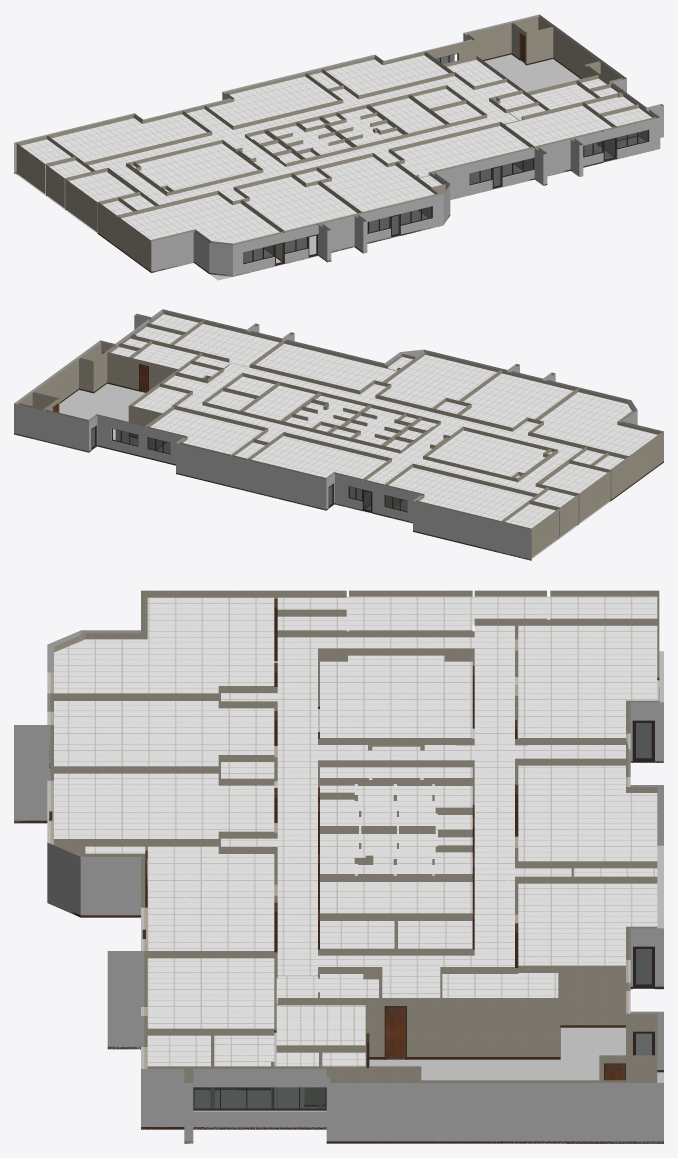
The model's file is FloorPlan.FBX.
3 views of the same model, one above another, from view 1: azimuth 30°, elevation 25°; view 2: azimuth 150°, elevation 25°; view 3: azimuth 270°, elevation 25° (orthographic). The views are drawn at different scales.
Visible parts, largest first — view 1: Walls, Walls_Exterior, Ceiling_Hallway, Ceiling_Act_Rm_5, Ceiling_Bathrooms, Ceiling_Act_Rm_4, Ceiling_Act_Rm_3, Ceiling_Act_Rm_2, Ceiling_Act_Rm_1, Ceiling_Art_Area, Ceiling_Act_Rm_6, Ceiling_Act_Rm_7 (+12 smaller); view 2: Walls, Walls_Exterior, Ceiling_Hallway, Ceiling_Act_Rm_5, Ceiling_Bathrooms, Ceiling_Act_Rm_4, Ceiling_Act_Rm_3, Ceiling_Act_Rm_2, Ceiling_Act_Rm_1, Ceiling_Art_Area, Ceiling_Act_Rm_6, Ceiling_Act_Rm_7 (+10 smaller); view 3: Walls, Walls_Exterior, Ceiling_Hallway, Ceiling_Act_Rm_5, Ceiling_Bathrooms, Ceiling_Act_Rm_4, Ceiling_Act_Rm_3, Ceiling_Act_Rm_2, Ceiling_Act_Rm_1, Ceiling_Act_Rm_6, Ceiling_Art_Area, Ceiling_Act_Rm_7 (+16 smaller).
Part boxes in pixels (x1,y1,x2,y2): Walls: (16, 16, 655, 271); Walls_Exterior: (14, 14, 663, 276); Ceiling_Hallway: (89, 76, 518, 204); Ceiling_Act_Rm_5: (21, 114, 206, 215); Ceiling_Bathrooms: (249, 98, 444, 163); Ceiling_Act_Rm_4: (121, 194, 279, 243); Ceiling_Act_Rm_3: (239, 177, 356, 230); Ceiling_Act_Rm_2: (321, 157, 434, 211); Ceiling_Act_Rm_1: (394, 126, 529, 177); Ceiling_Art_Area: (132, 143, 257, 191); Ceiling_Act_Rm_6: (209, 76, 337, 125); Ceiling_Act_Rm_7: (326, 55, 448, 95); Walls: (18, 311, 663, 557); Walls_Exterior: (14, 309, 663, 560); Ceiling_Hallway: (164, 363, 582, 493); Ceiling_Act_Rm_5: (389, 450, 624, 528); Ceiling_Bathrooms: (244, 385, 436, 450); Ceiling_Act_Rm_4: (533, 392, 657, 455); Ceiling_Act_Rm_3: (461, 373, 572, 427); Ceiling_Act_Rm_2: (381, 355, 496, 407); Ceiling_Act_Rm_1: (256, 343, 396, 390); Ceiling_Art_Area: (428, 430, 552, 478); Ceiling_Act_Rm_6: (252, 436, 386, 478); Ceiling_Act_Rm_7: (150, 409, 262, 454); Walls: (50, 590, 659, 1107); Walls_Exterior: (14, 630, 663, 1143); Ceiling_Hallway: (221, 625, 625, 997); Ceiling_Act_Rm_5: (277, 596, 657, 737); Ceiling_Bathrooms: (320, 767, 472, 913); Ceiling_Act_Rm_4: (54, 597, 274, 693); Ceiling_Act_Rm_3: (54, 701, 274, 766); Ceiling_Act_Rm_2: (54, 773, 274, 838); Ceiling_Act_Rm_1: (147, 846, 274, 950); Ceiling_Act_Rm_6: (518, 765, 657, 861); Ceiling_Art_Area: (320, 655, 472, 737); Ceiling_Act_Rm_7: (518, 883, 657, 965).
Bounding box in the file's own units: 53.24 × 29.61 × 3.05.
